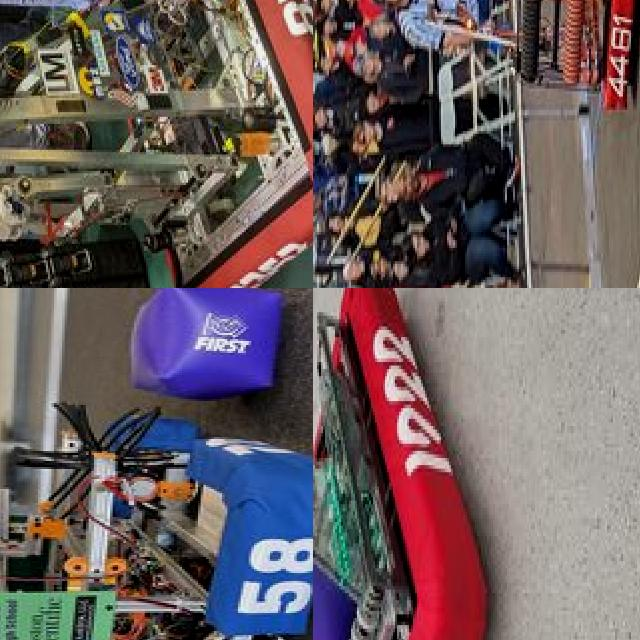FRC-Robots: (0, 0, 313, 288), (0, 403, 313, 640), (313, 288, 501, 640), (356, 0, 640, 158)
